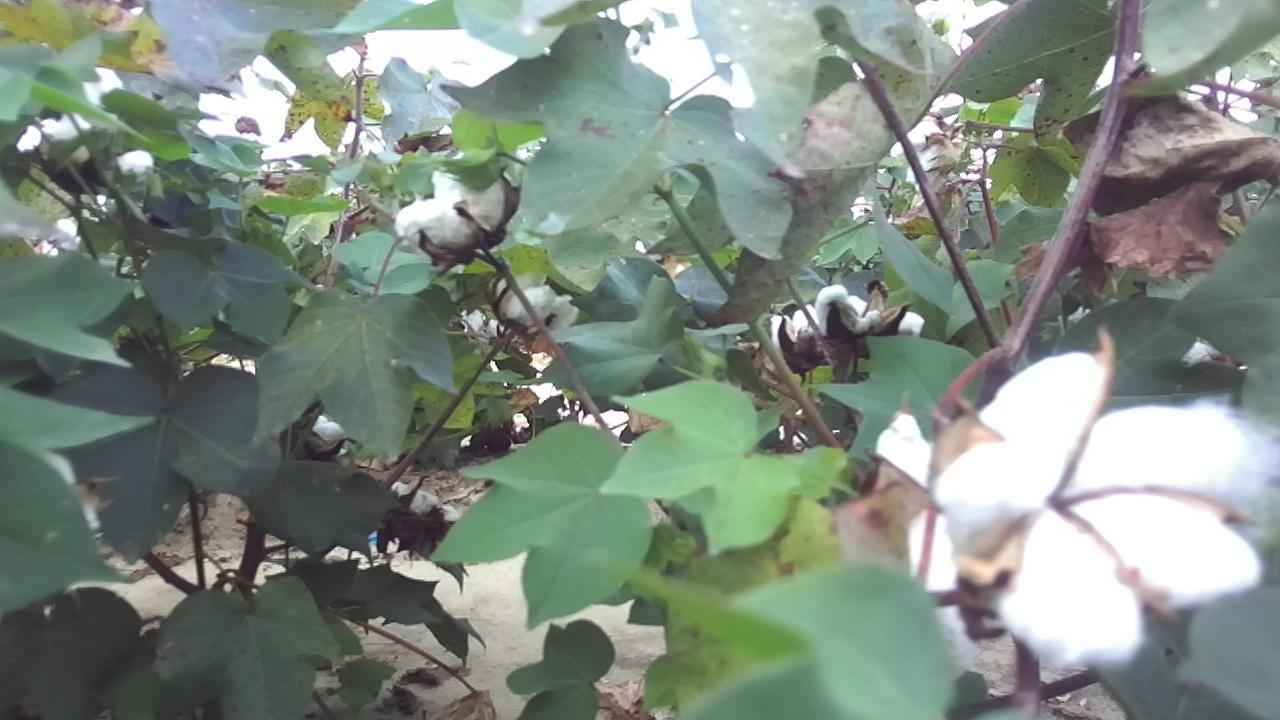cotton_ready: (932, 354, 1280, 664), (880, 410, 964, 643), (772, 282, 925, 366), (395, 169, 507, 253), (40, 127, 157, 184), (495, 267, 580, 334), (309, 414, 349, 445)
